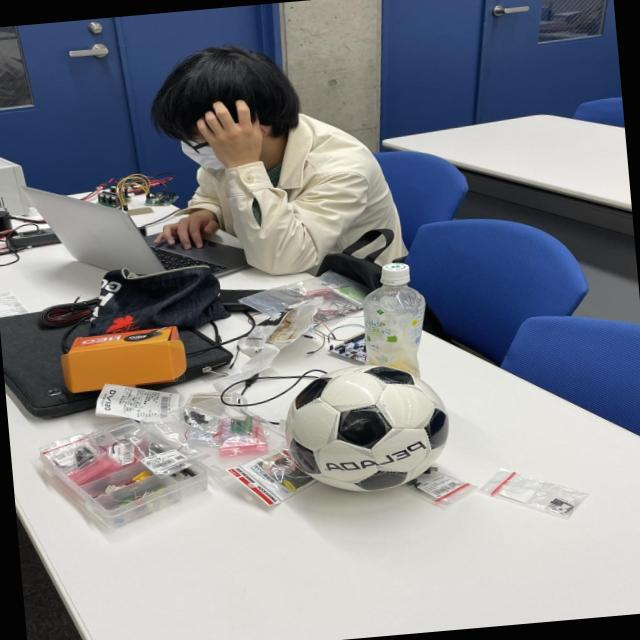Soccer Ball: (280, 358, 453, 499)
